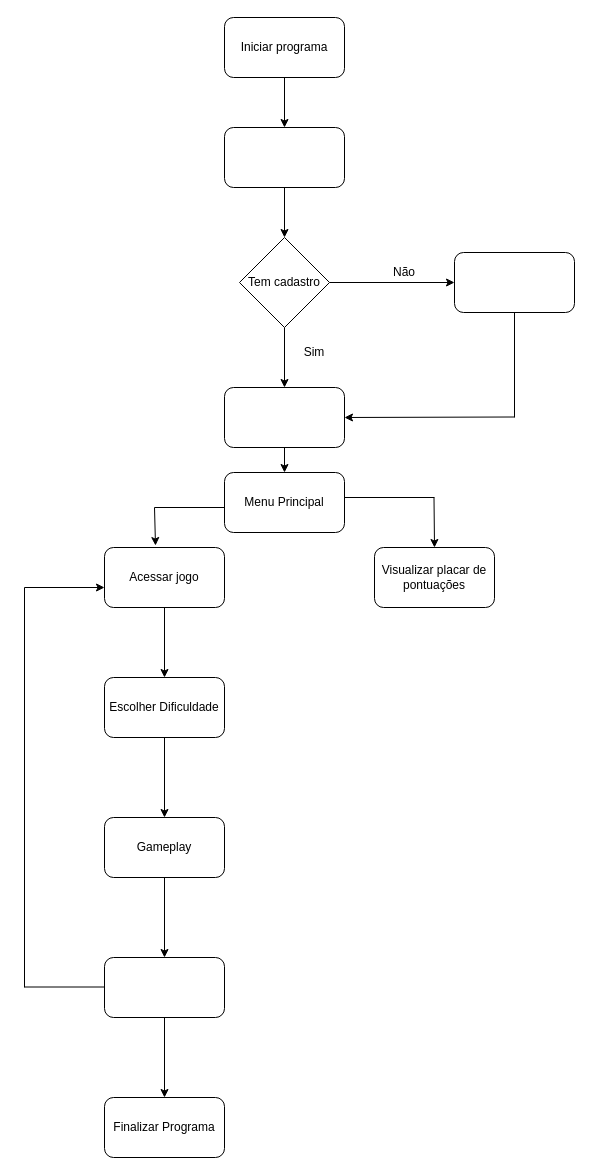
Image size: 592x1175. Some labels were removed from this diagram. The shapes that lost their labels are listed below. From the top down, each one's centre as x and y in pixels, then its label:
(284,157): Login
(514,282): Cadastrar
(284,417): Logar
(164,987): Gameover
